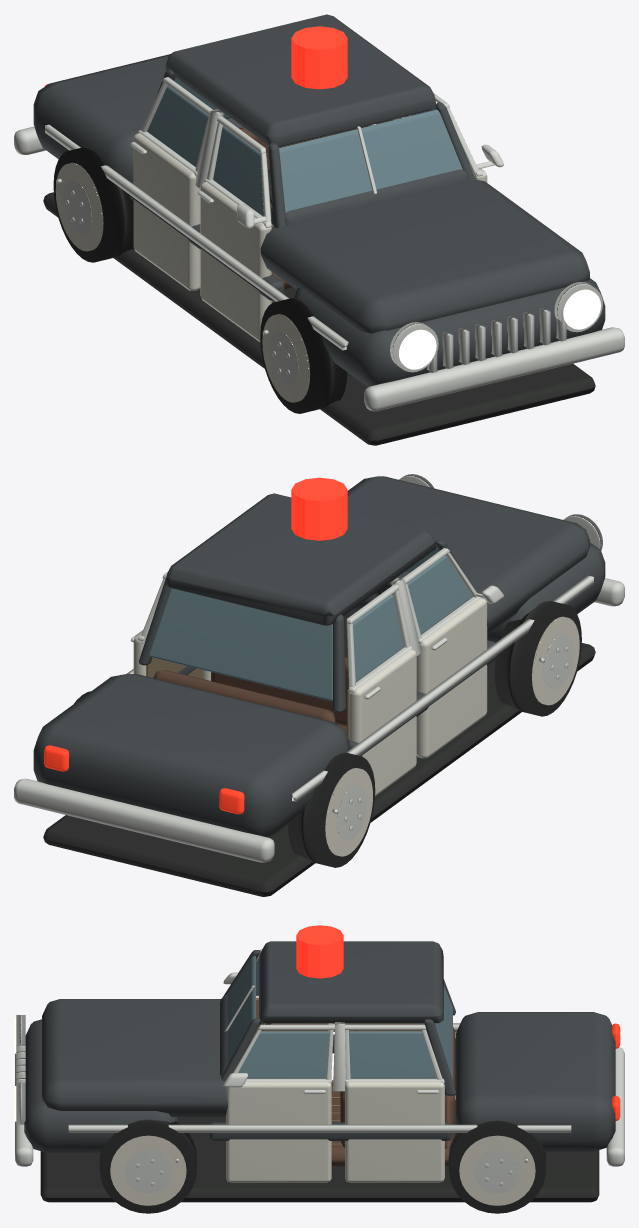
File: police.glb
3 renders of one model, top to bottom at view 1: azimuth 30°, elevation 25°; view 2: azimuth 150°, elevation 25°; view 3: azimuth 270°, elevation 25°, orthographic. The views are drawn at different scales.
Visible parts, largest first — view 1: front body, windscreen divider, floor pan, split windscreen, door skin.001, door skin, wheel.001, wheel, red beacon, door window, door window.001, headlight (+6 smaller); view 2: front body, floor pan, split windscreen, windscreen divider, door skin, door skin.001, wheel, wheel.001, bench cushion, red beacon, door window, door window.001 (+7 smaller); view 3: front body, floor pan, door skin.002, door skin.003, windscreen divider, door window.003, door window.002, wheel.002, wheel.003, split windscreen, whitewall.003, whitewall.002 (+6 smaller).
Part boxes in pixels (x1,y1,x2,y2): front body: [33, 14, 605, 386]; windscreen divider: [14, 109, 624, 411]; floor pan: [43, 169, 595, 445]; split windscreen: [174, 77, 462, 212]; door skin.001: [133, 133, 200, 290]; door skin: [200, 182, 271, 341]; wheel.001: [53, 147, 133, 262]; wheel: [260, 297, 347, 413]; red beacon: [291, 26, 347, 89]; door window: [213, 126, 271, 218]; door window.001: [147, 86, 208, 166]; headlight: [399, 289, 600, 369]; front body: [33, 476, 605, 837]; floor pan: [43, 583, 595, 896]; split windscreen: [149, 546, 438, 701]; windscreen divider: [14, 474, 624, 862]; door skin: [416, 598, 487, 758]; door skin.001: [349, 649, 416, 796]; wheel: [494, 601, 581, 716]; wheel.001: [288, 752, 375, 867]; bench cushion: [153, 657, 348, 734]; red beacon: [291, 477, 347, 540]; door window: [407, 555, 472, 634]; door window.001: [346, 594, 403, 682]; front body: [24, 941, 615, 1152]; floor pan: [40, 1021, 599, 1202]; door skin.002: [226, 1081, 331, 1182]; door skin.003: [345, 1081, 444, 1182]; windscreen divider: [15, 972, 624, 1166]; door window.003: [349, 1031, 436, 1078]; door window.002: [238, 1031, 329, 1078]; wheel.002: [99, 1119, 196, 1213]; wheel.003: [448, 1120, 545, 1213]; split windscreen: [227, 956, 452, 1080]; whitewall.003: [459, 1135, 535, 1205]; whitewall.002: [110, 1135, 186, 1205].
Bounding box in the file's own units: 2.08 × 1.88 × 4.65.
